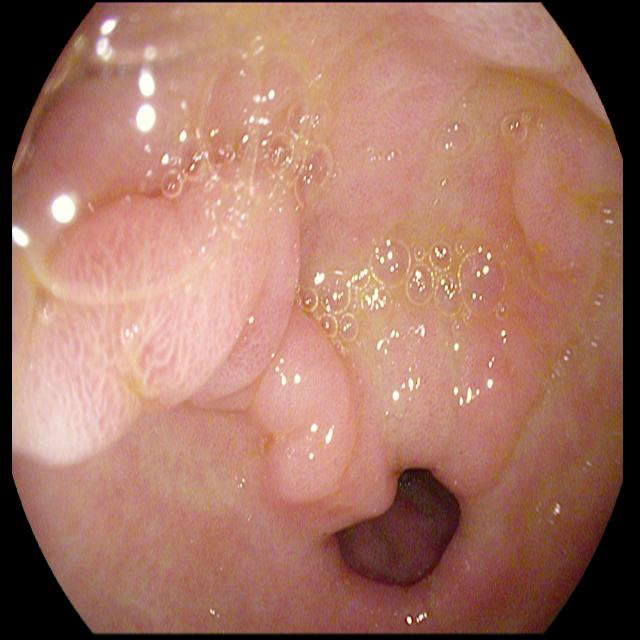normal-pylorus: (12, 0, 622, 556)
